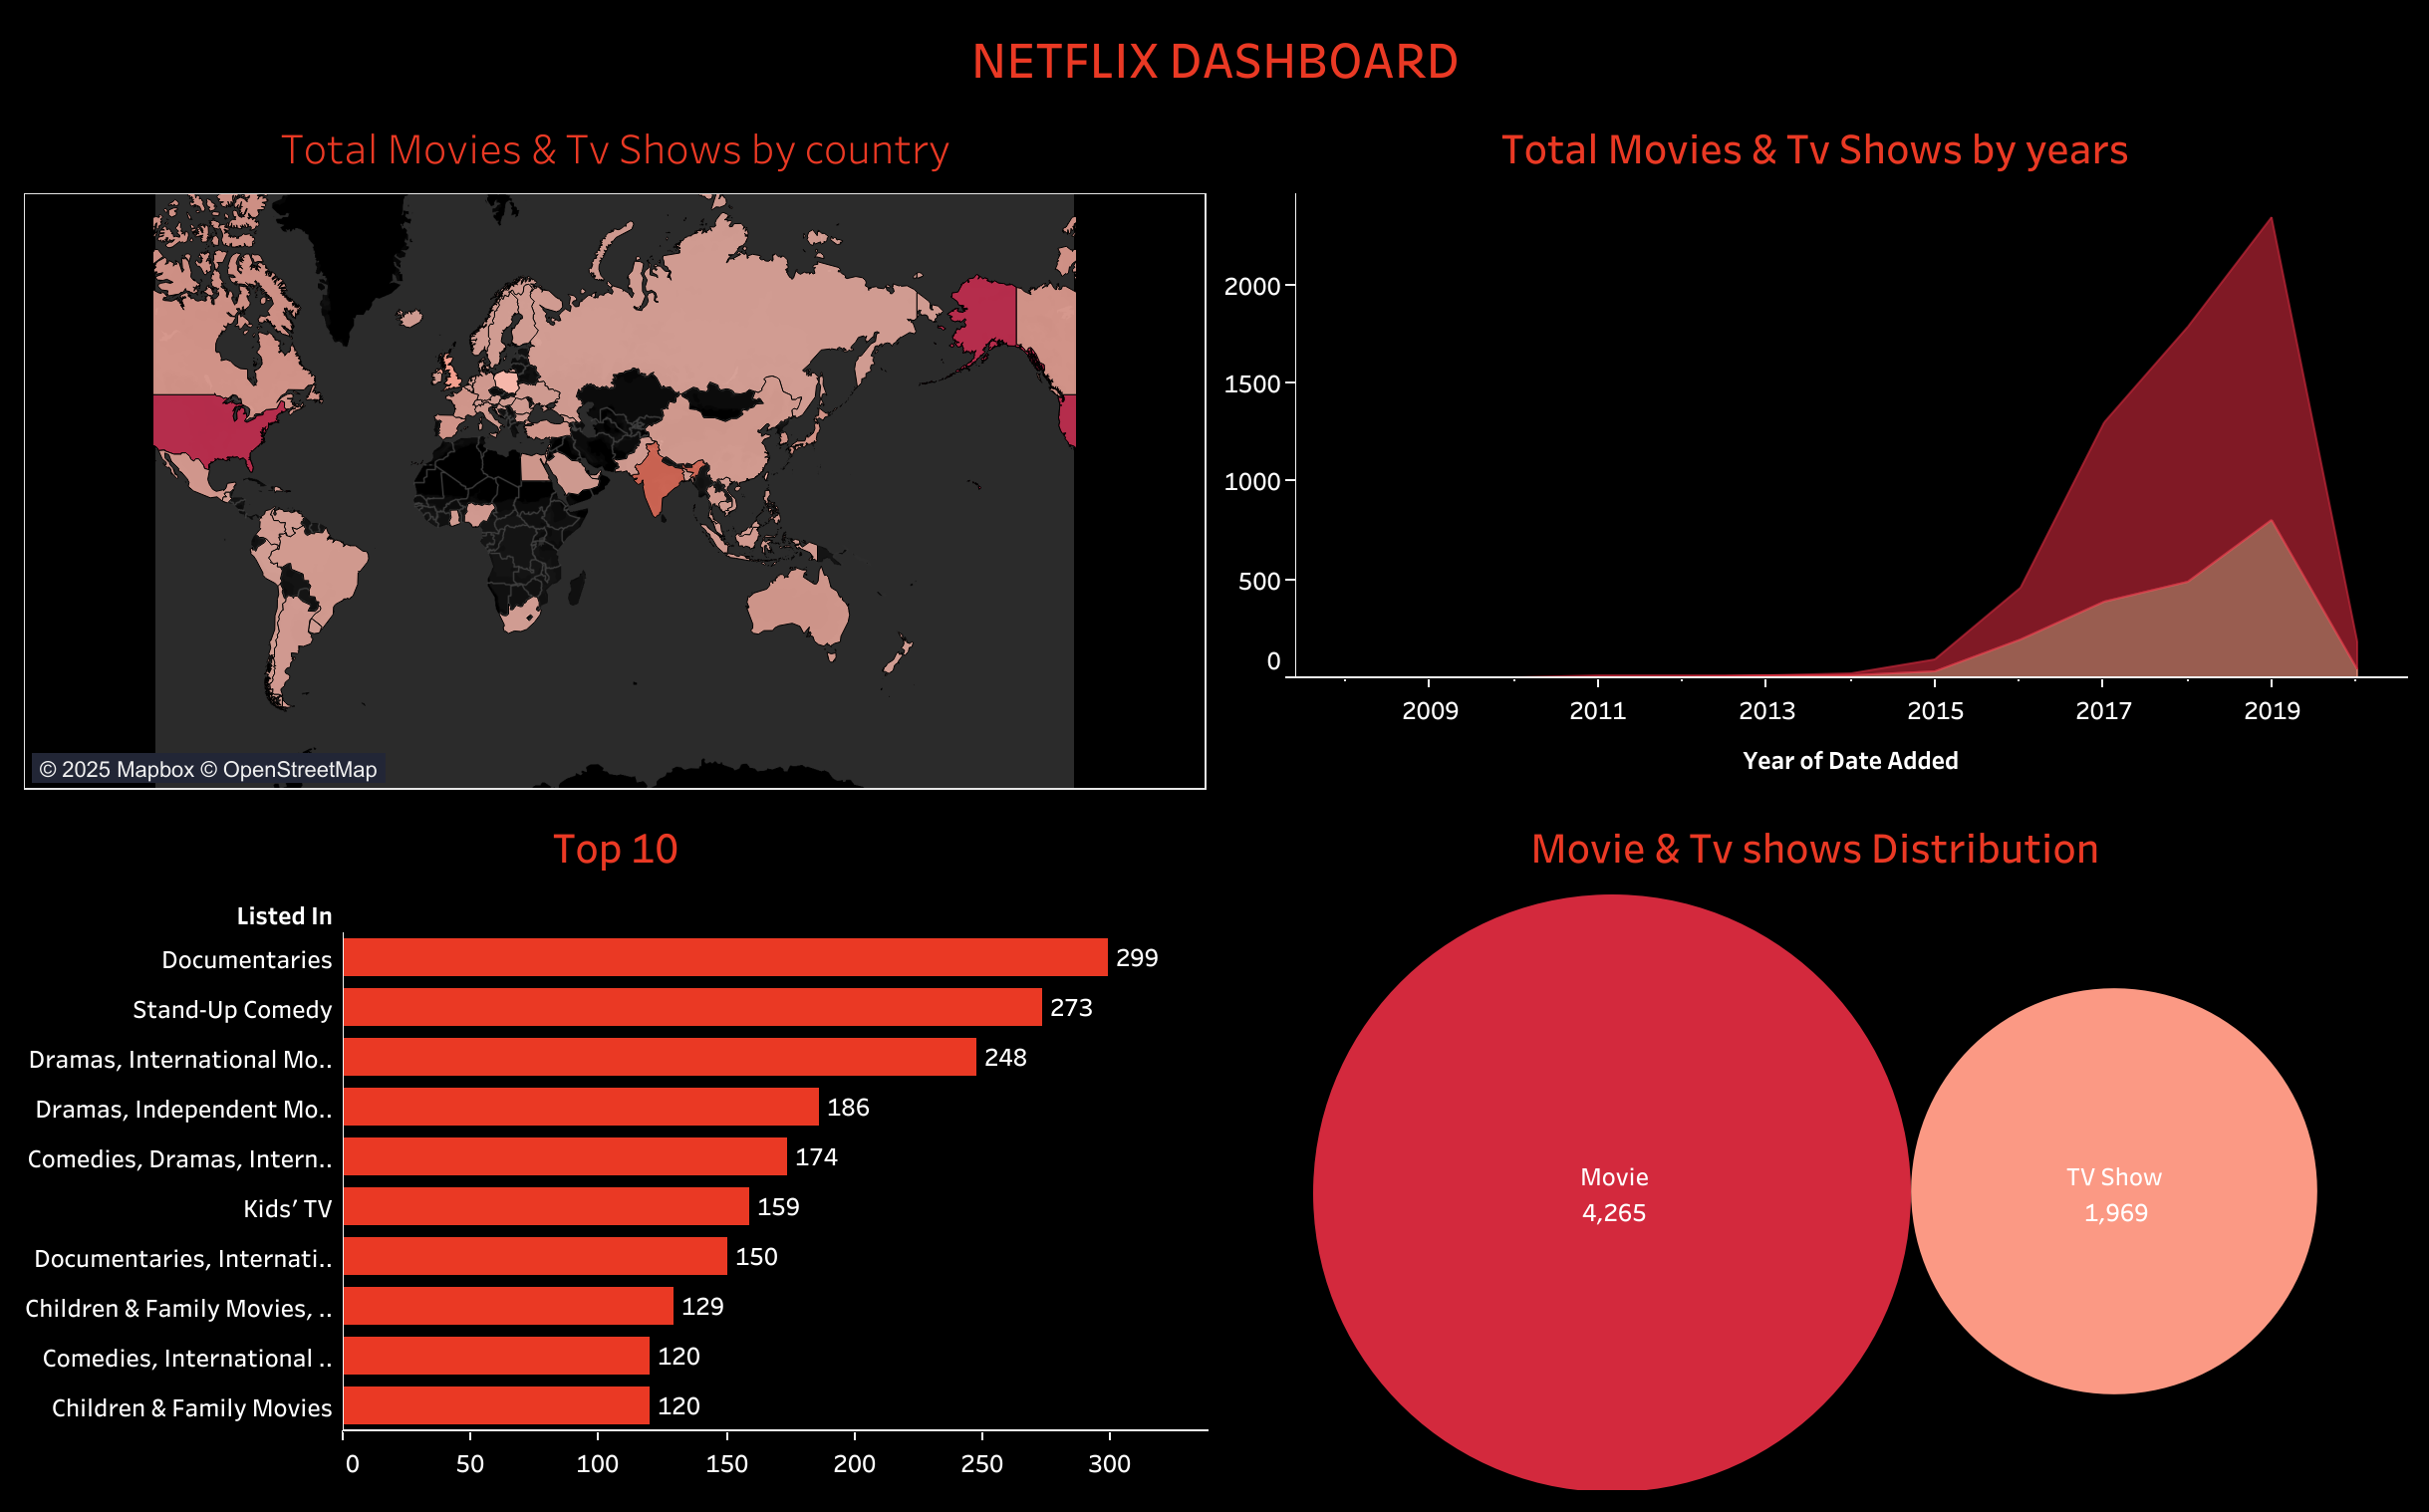

The page's visual inventory and layout, read from the dashboard file:
{"tool":"tableau","page":{"name":"Netflix ","canvas":[1000,1000],"units":"permille","ordinal":0},"visuals":[{"type":"title","box":[5.7,10.5,988.7,54]},{"type":"worksheet","title":"Total Movies & Tv shows by country","mark":"Automatic","box":[5.7,64.5,494.3,462.4]},{"type":"worksheet","title":"Total Movies & Tv Shows by years","mark":"Area","rows":["show_id"],"cols":["date_added"],"box":[500,64.5,494.3,462.4]},{"type":"worksheet","title":"Top 10","mark":"Automatic","rows":["listed_in"],"cols":["show_id"],"box":[5.7,526.9,494.3,462.6]},{"type":"worksheet","title":"Movie & Tv shows Distribution","mark":"Circle","box":[500,526.9,494.3,462.6]}]}

Visuals, with their boxes on the dashboard's canvas, which has no fixed pixel size, in thousandths of its width and height (x1, y1, x2, y2). These are canvas units, not pixel positions in the 2429x1512 screenshot, which may show the page scaled, cropped or inside an application window:
title: locate(6, 10, 994, 64)
"Total Movies & Tv shows by country" worksheet: locate(6, 64, 500, 527)
"Total Movies & Tv Shows by years" worksheet (Area marks): locate(500, 64, 994, 527)
"Top 10" worksheet: locate(6, 527, 500, 990)
"Movie & Tv shows Distribution" worksheet (Circle marks): locate(500, 527, 994, 990)
